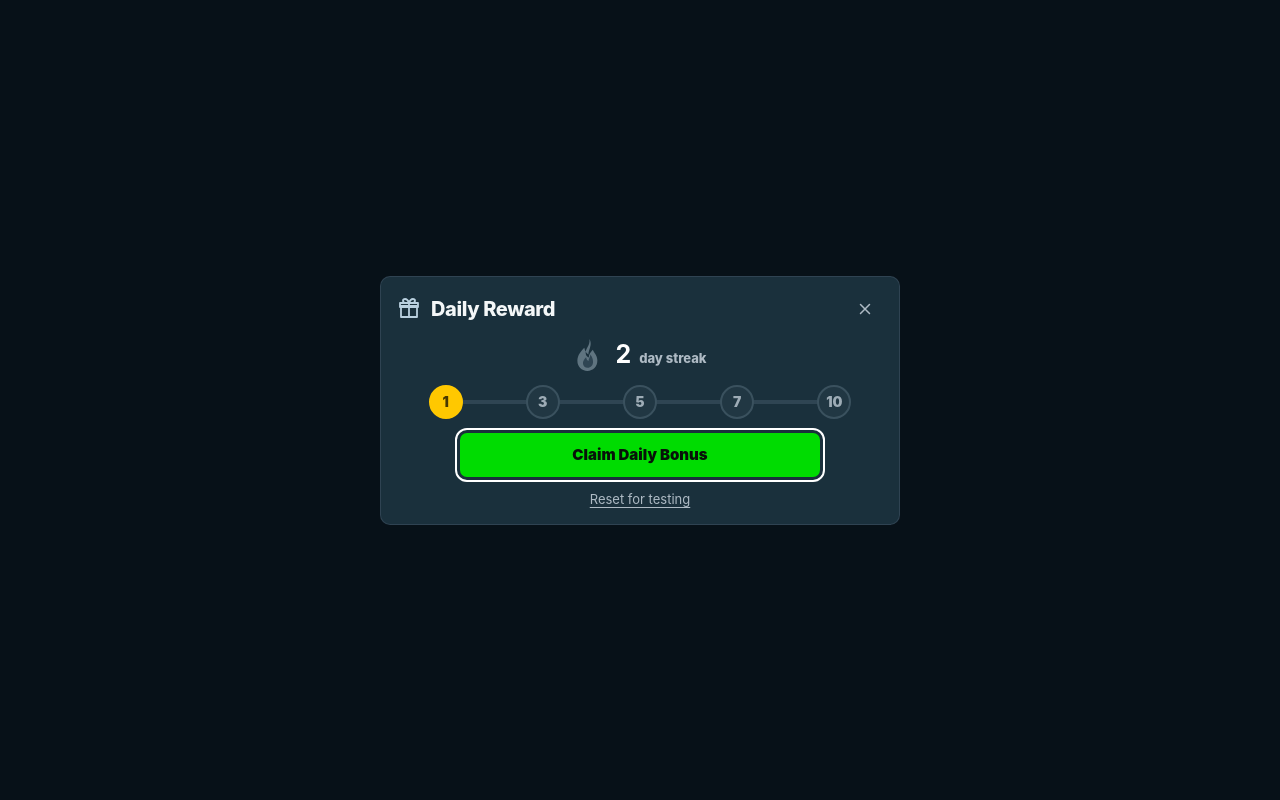
Test: DailyBonusModal › reveals the server-selected gem and updates wallet state
Click the button "Claim Daily Bonus": point(640, 454) [460,432,820,476]
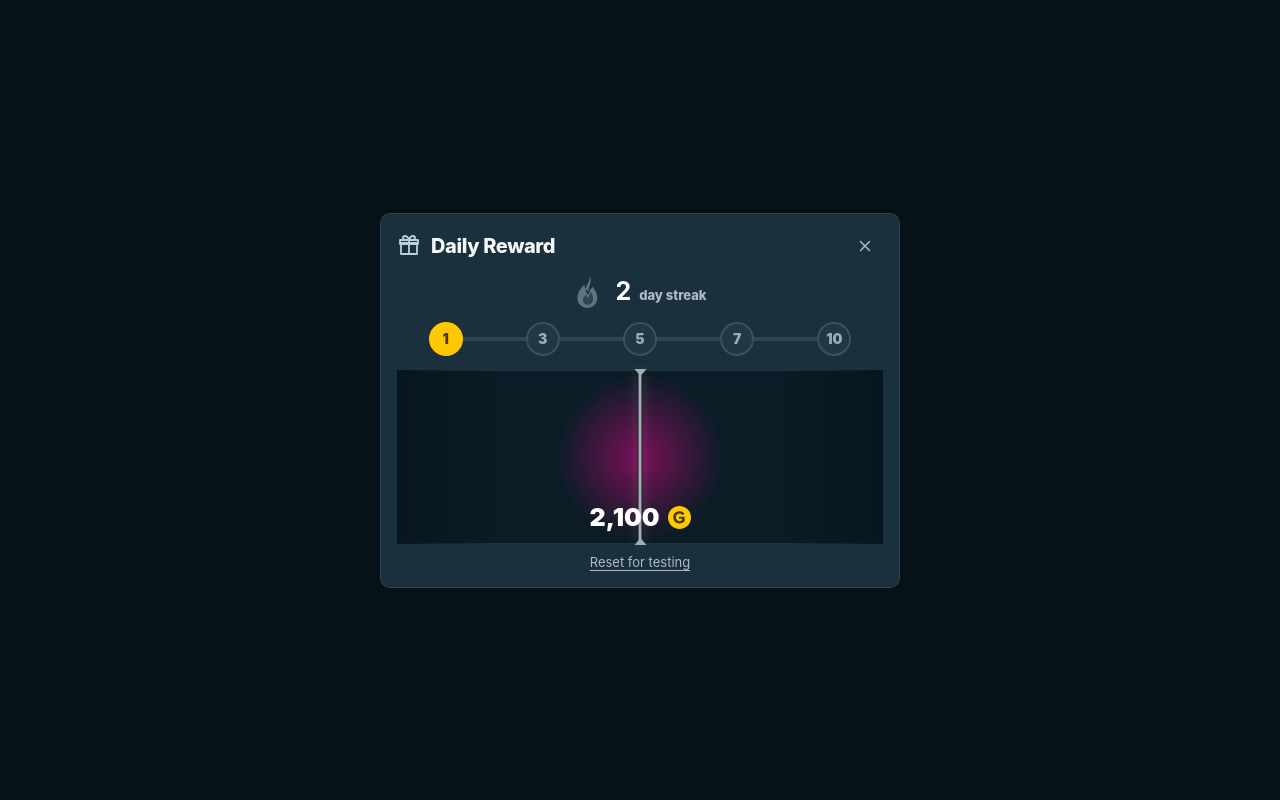
Now the message named "2,100 gold" is shown, box [590,502,690,532]
